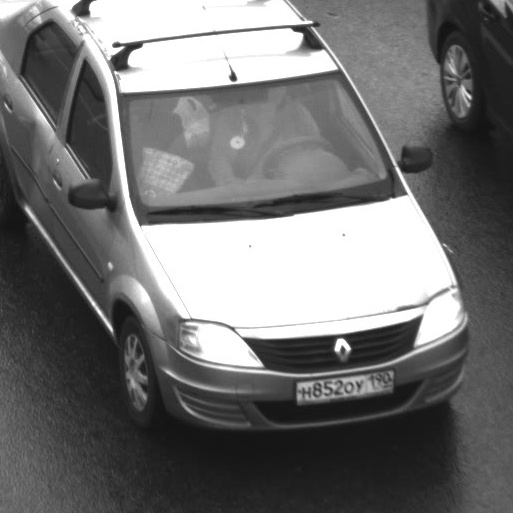plate: (283, 358, 402, 409)
